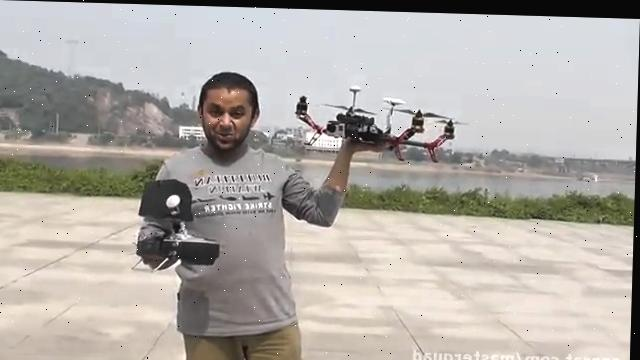drone: (288, 79, 474, 163)
